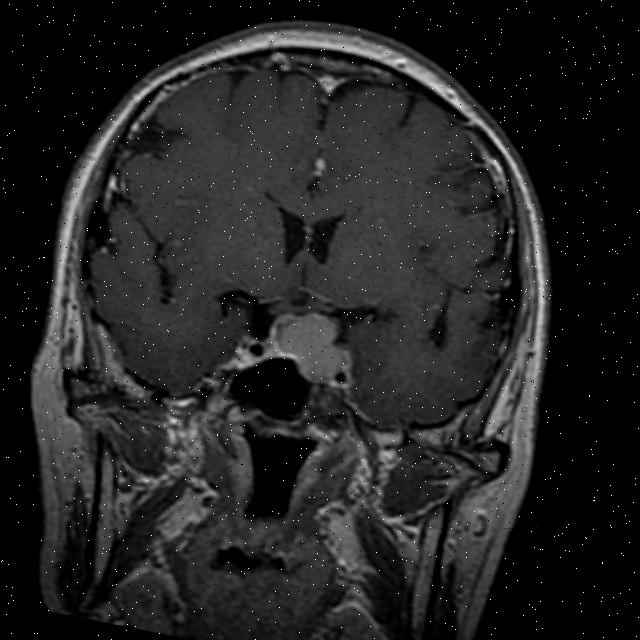Pituitary: (262, 305, 359, 389)
